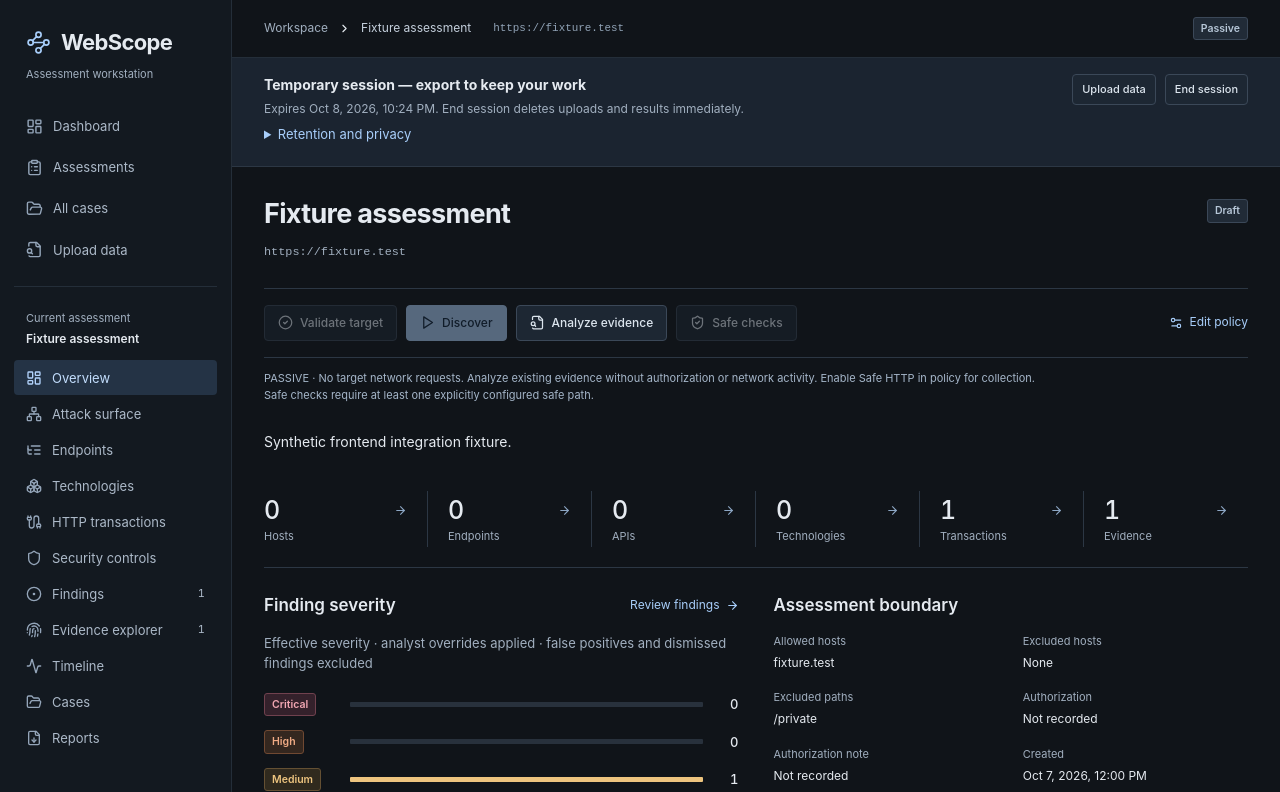
Test: inventory, cases, configuration, and exports › enforced lifecycle and authorization contracts › allows PASSIVE analysis without authorization and never enables network actions
The image size is (1280, 792).
Expected: the button "Validate target" is disabled, left=264, top=304, right=397, bottom=340
Expected: the button "Discover" is disabled, left=406, top=304, right=507, bottom=340
What coordinates should you click on to do the following:
click the button "Analyze evidence"
I would click on:
 (591, 322)
Its box is left=516, top=304, right=667, bottom=340.
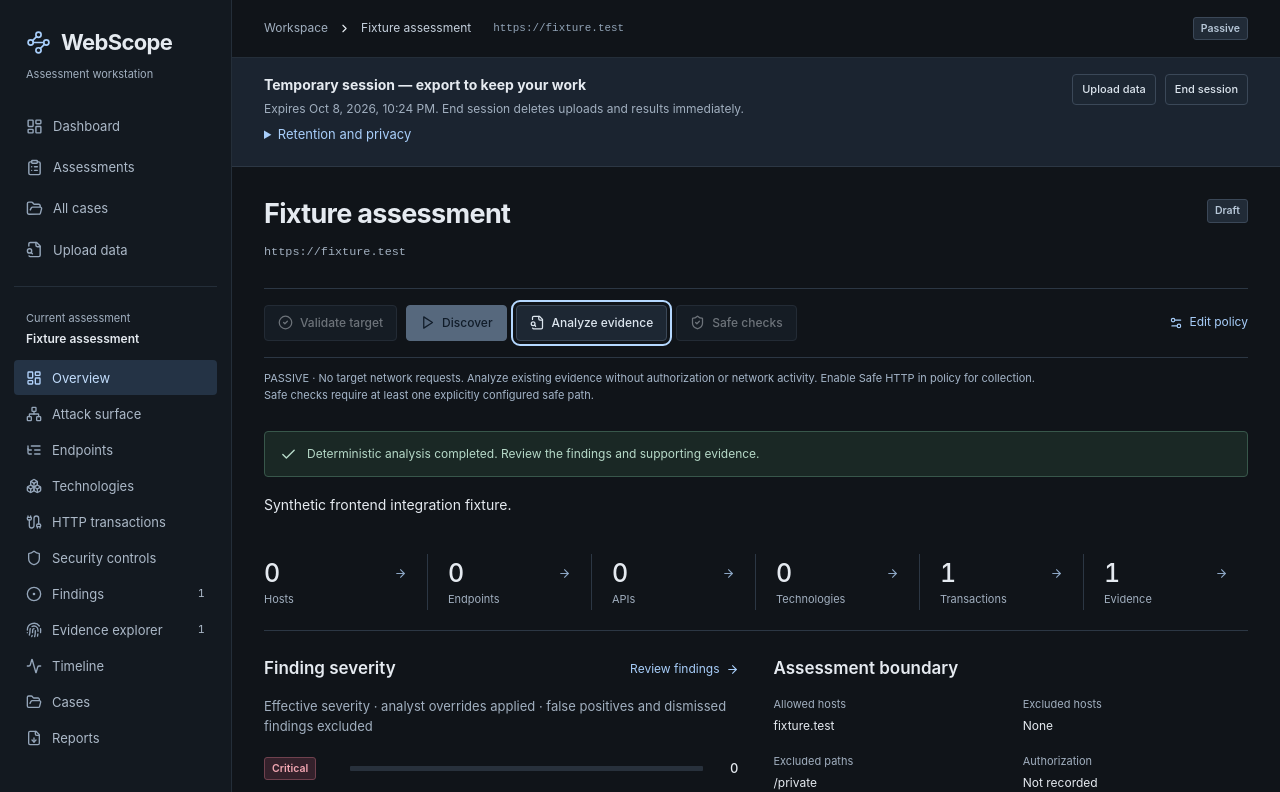
Expected: the text "Deterministic analysis completed. Review the findings and supporting evidence." is shown, left=264, top=431, right=1248, bottom=477
